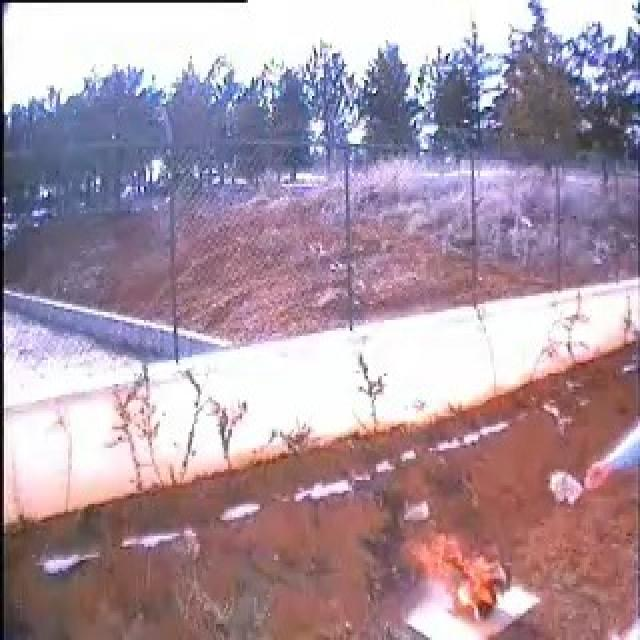fire: (415, 544, 502, 616)
